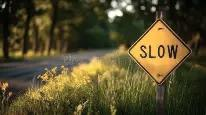Slow: (130, 21, 189, 82)
